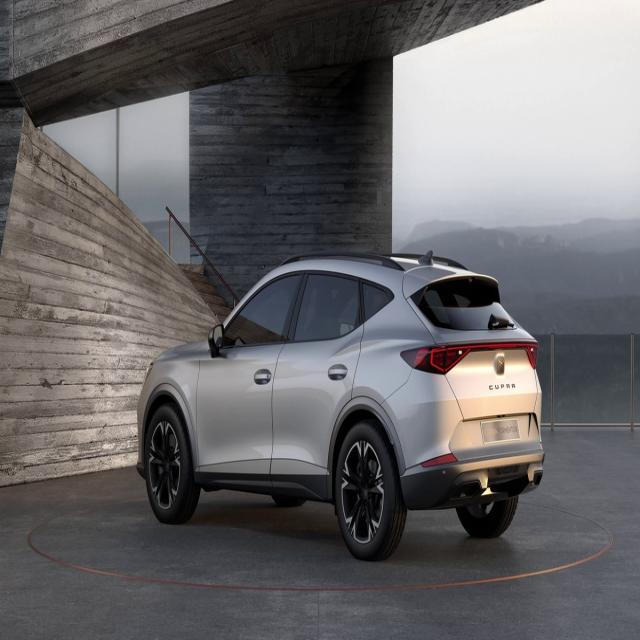SUV: (135, 250, 550, 562)
